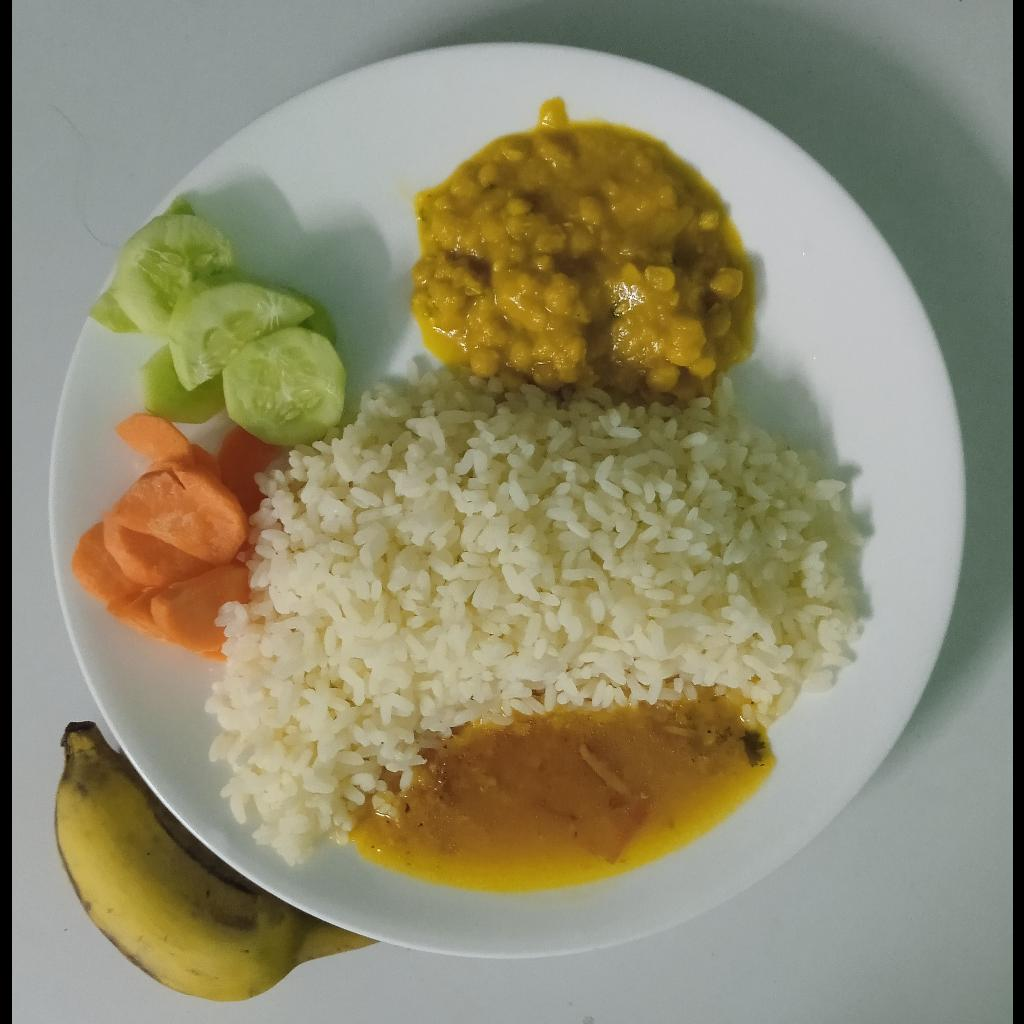banana: (53, 721, 381, 1002)
carrot: (69, 412, 283, 661)
cucumber: (86, 195, 347, 446)
daal: (404, 96, 749, 400), (346, 698, 774, 891)
rice: (206, 358, 865, 868)
